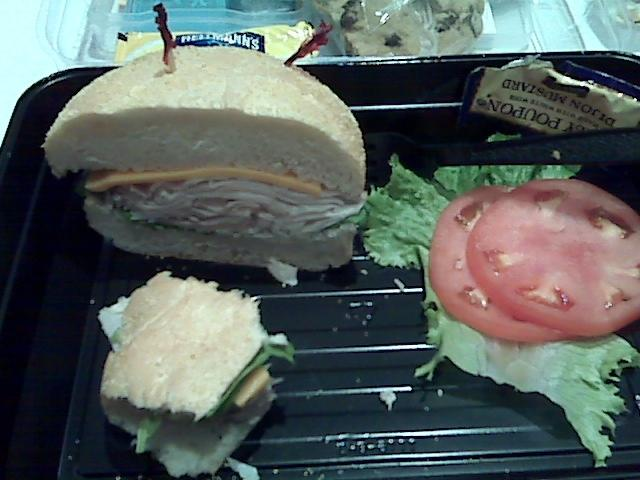lettuce: (361, 132, 640, 467), (205, 336, 296, 420), (121, 212, 132, 220)
tomato: (466, 178, 638, 336), (429, 184, 584, 344)
